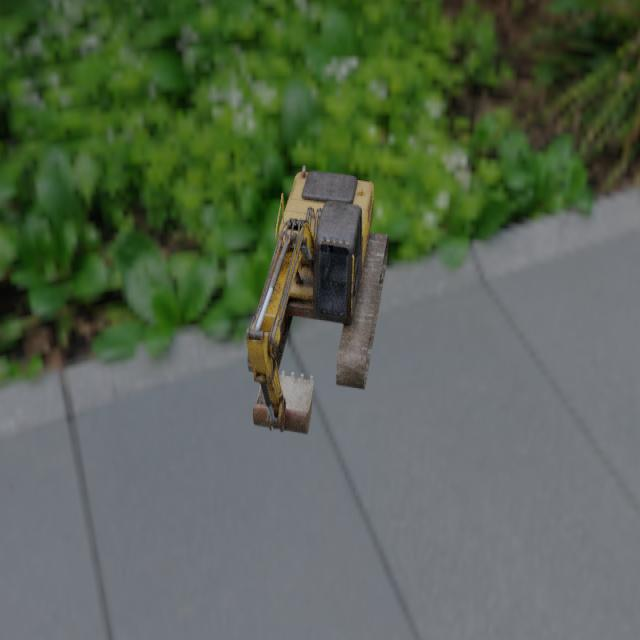excavator: (245, 164, 388, 435)
